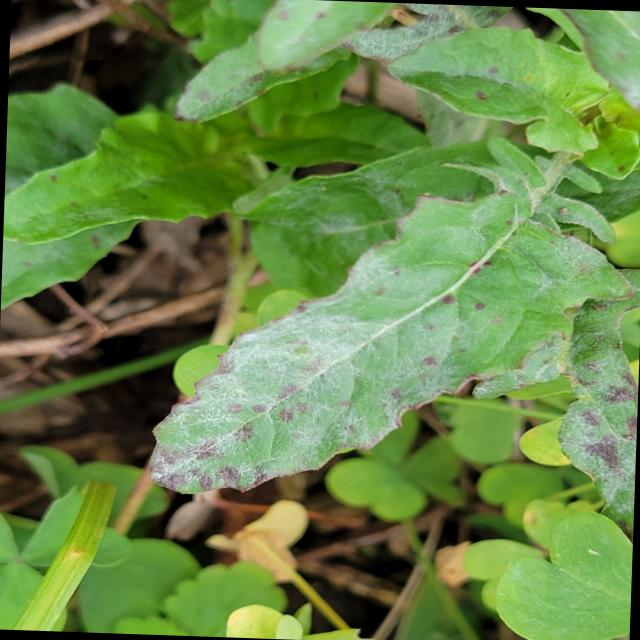powdery_mildew: (151, 190, 631, 492)
